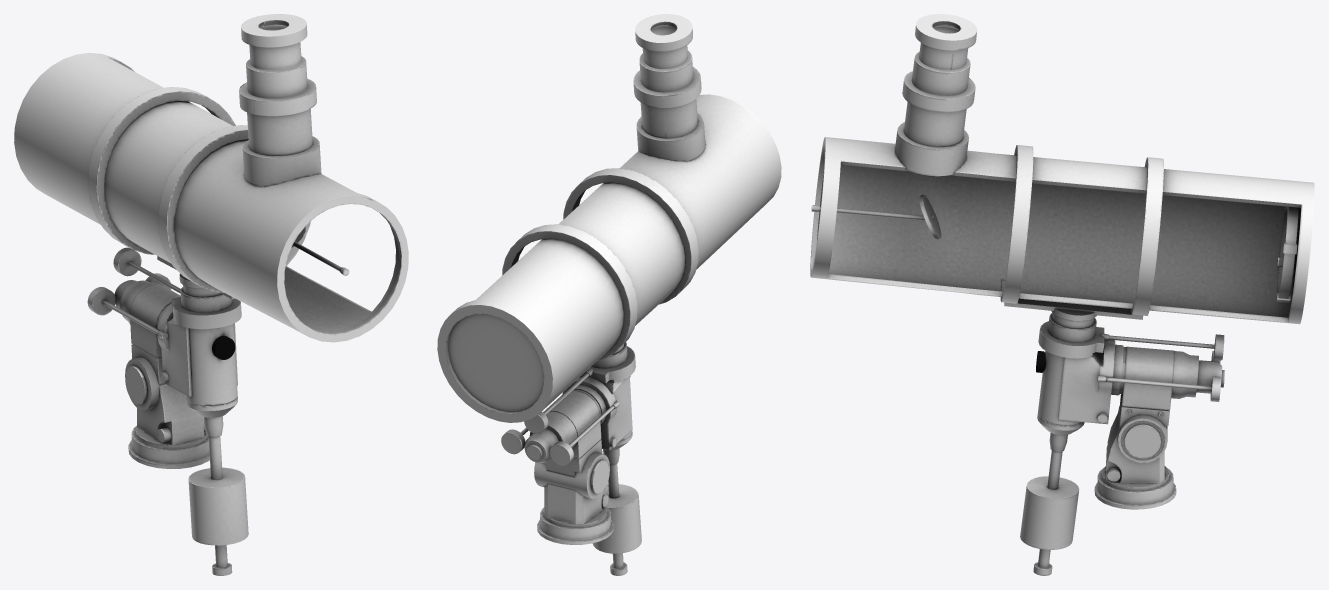
Rendered from TeleScope_2.fbx.
The picture shows the model from 3 angles, left to right: view 1: azimuth 30°, elevation 25°; view 2: azimuth 150°, elevation 25°; view 3: azimuth 270°, elevation 25°; orthographic projection. The views are drawn at different scales.
Visible parts, largest first — view 1: Scope_02_Main, Scope_02_ShelfA, Scope_02_MuJing, Scope_02_ShelfB, Scope_02_ShelfC; view 2: Scope_02_Main, Scope_02_ShelfA, Scope_02_ShelfB, Scope_02_MuJing, Scope_02_ShelfC; view 3: Scope_02_Main, Scope_02_ShelfA, Scope_02_ShelfB, Scope_02_MuJing, Scope_02_ShelfC, Scope_02_ZhuJing.
Part boxes in pixels (x1,y1,x2,y2): Scope_02_Main: (14,53,408,342); Scope_02_ShelfA: (88,87,310,575); Scope_02_MuJing: (239,14,321,186); Scope_02_ShelfB: (87,273,237,410); Scope_02_ShelfC: (128,384,209,468); Scope_02_Main: (437,94,781,422); Scope_02_ShelfA: (502,168,698,575); Scope_02_ShelfB: (501,376,632,499); Scope_02_MuJing: (633,14,705,161); Scope_02_ShelfC: (537,483,613,544); Scope_02_Main: (810,137,1314,324); Scope_02_ShelfA: (1000,145,1224,575); Scope_02_ShelfB: (1058,339,1224,463); Scope_02_MuJing: (895,14,977,176); Scope_02_ShelfC: (1094,411,1176,509); Scope_02_ZhuJing: (1276,206,1298,302).
Bounding box in the file's own units: 21.32 × 81.49 × 67.92.
1 material, 1 textured.
